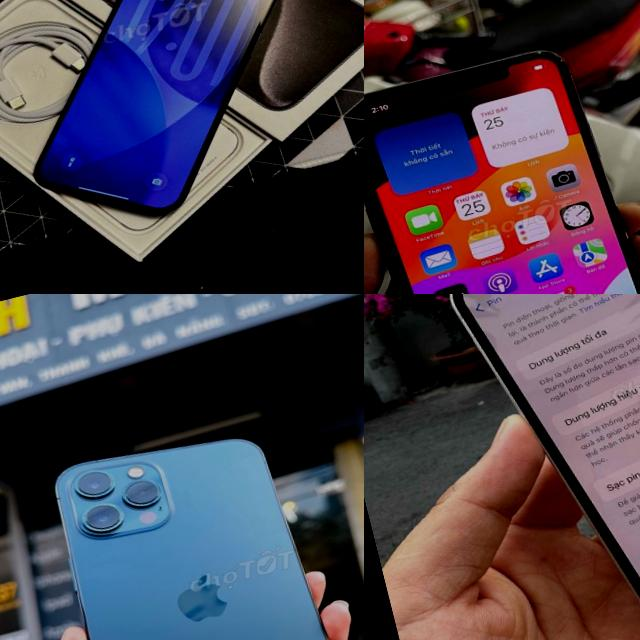gen_11: (364, 51, 640, 294)
gen_12_13: (36, 399, 364, 640), (420, 294, 640, 640)
gen_15: (0, 0, 351, 256)
